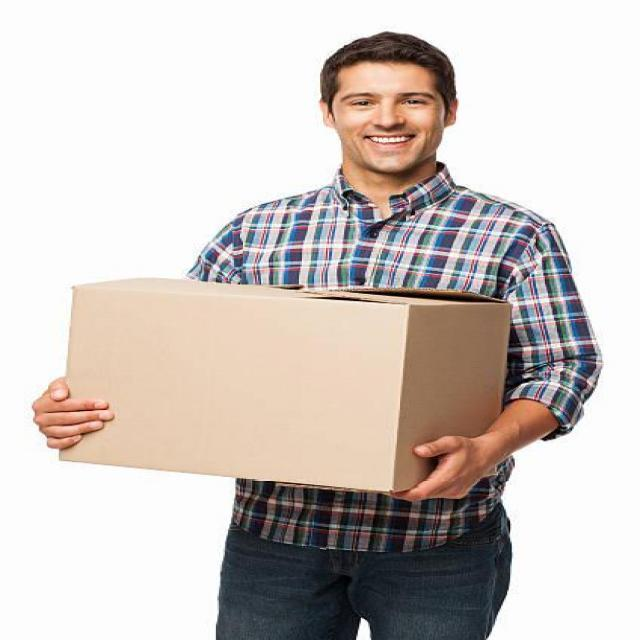box: (50, 266, 522, 502)
